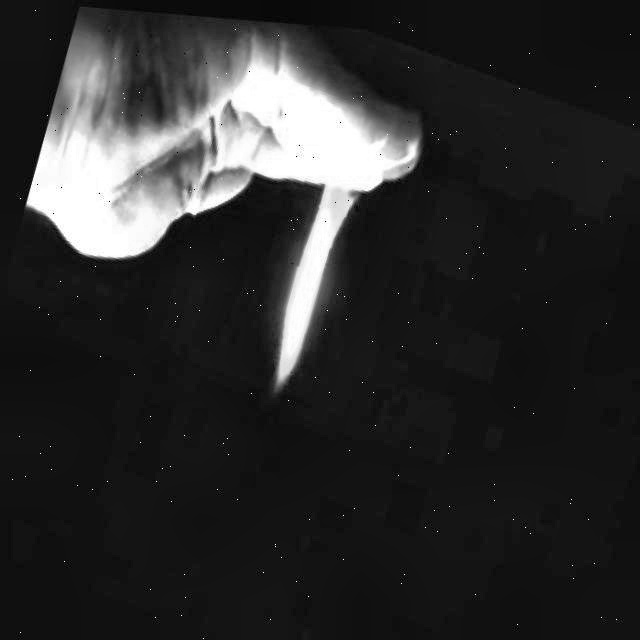Fire: (243, 134, 378, 415)
